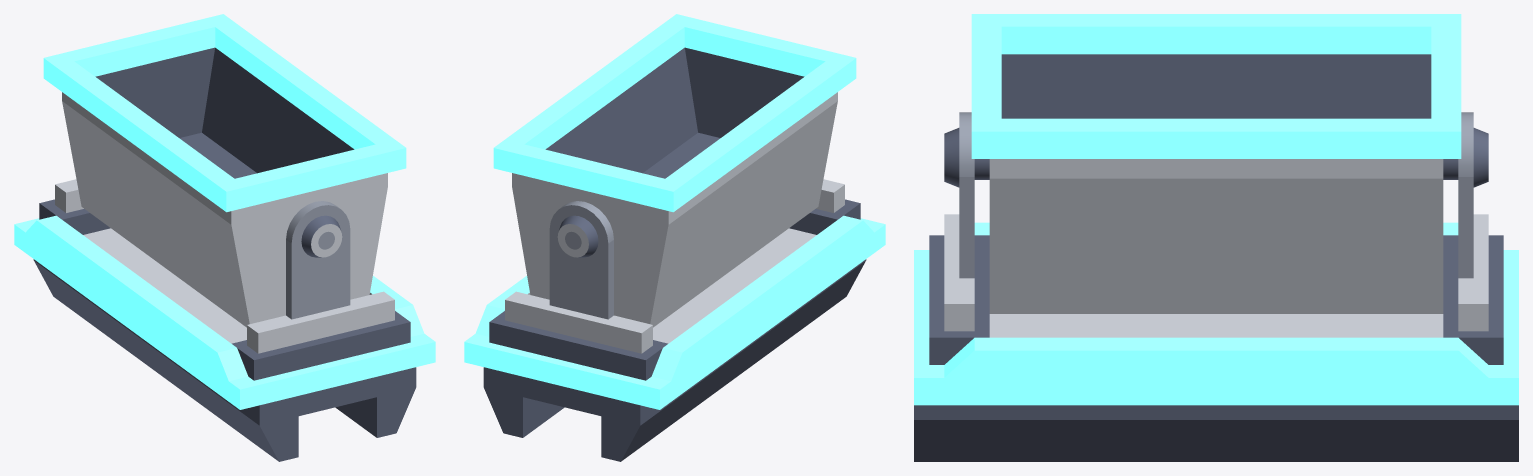
File: monorail_trainCargo.glb
3 views of the same model, side by side, from view 1: azimuth 30°, elevation 25°; view 2: azimuth 150°, elevation 25°; view 3: azimuth 270°, elevation 25° (orthographic). The views are drawn at different scales.
Visible parts, largest first — view 1: load, monorail_trainCargo; view 2: load, monorail_trainCargo; view 3: load, monorail_trainCargo.
Boxes of the visible parts, x1,y1,x2,y2 form: load: (43, 14, 406, 327); monorail_trainCargo: (14, 179, 435, 461); load: (493, 14, 856, 327); monorail_trainCargo: (464, 179, 885, 461); load: (971, 14, 1461, 313); monorail_trainCargo: (914, 112, 1518, 461).
Bounding box in the file's own units: 0.5 × 0.64 × 1.
